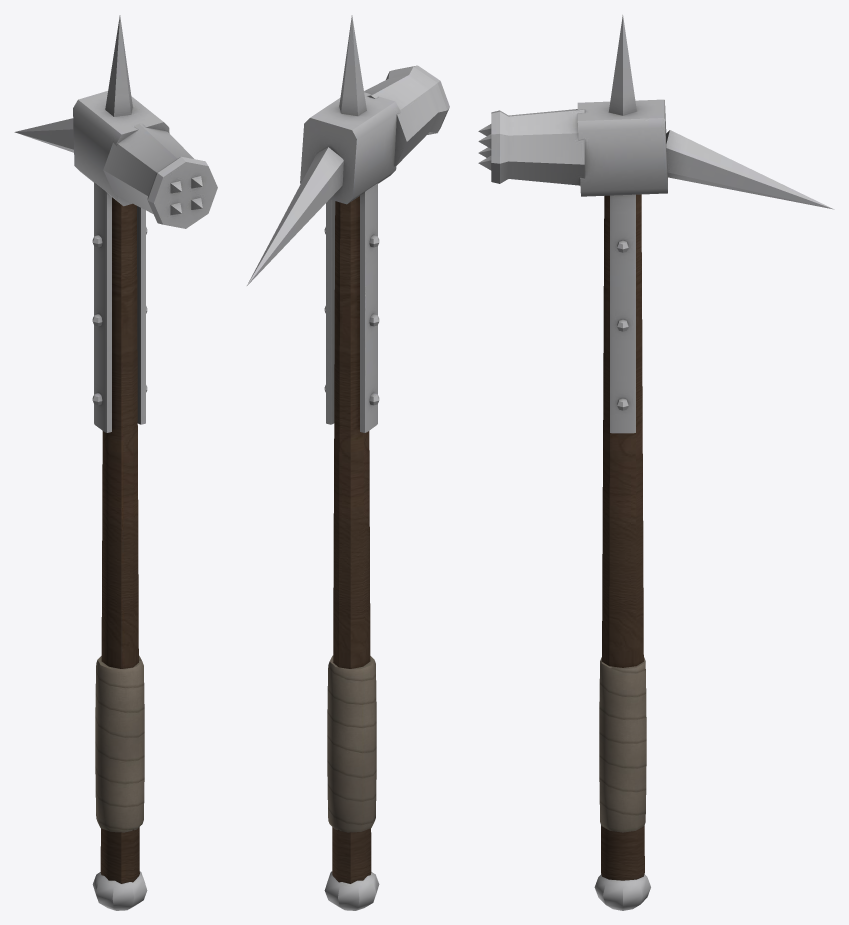
Rendered from warhammer.glb.
The picture shows the model from 3 angles, left to right: view 1: azimuth 30°, elevation 25°; view 2: azimuth 150°, elevation 25°; view 3: azimuth 270°, elevation 25°; orthographic projection.
Visible parts, largest first — view 1: SM_V_warhammer, SM_V_warhammer_Faste; view 2: SM_V_warhammer, SM_V_warhammer_Faste; view 3: SM_V_warhammer, SM_V_warhammer_Faste.
Part boxes in pixels (bbox=[...]): SM_V_warhammer: bbox=[14, 15, 217, 883]; SM_V_warhammer_Faste: bbox=[92, 871, 147, 910]; SM_V_warhammer: bbox=[246, 15, 449, 883]; SM_V_warhammer_Faste: bbox=[324, 871, 379, 910]; SM_V_warhammer: bbox=[478, 15, 834, 880]; SM_V_warhammer_Faste: bbox=[594, 874, 650, 910].
Size of the model in its own units: 0.076 by 0.9058 by 0.3277.
1 material, 1 textured.
